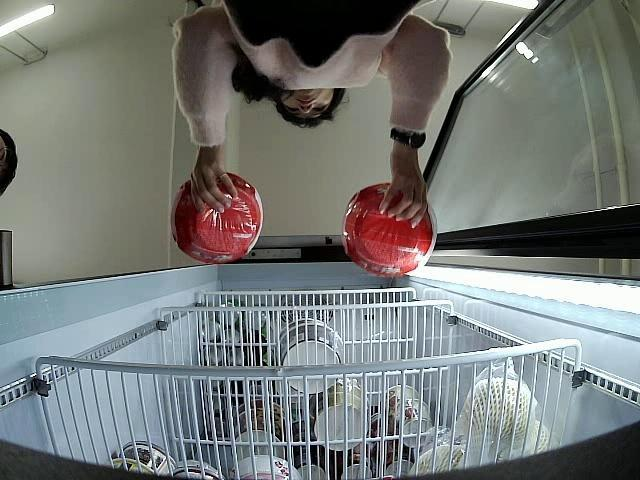10_wangTtukkeong: (343, 185, 438, 276), (170, 173, 264, 264)
